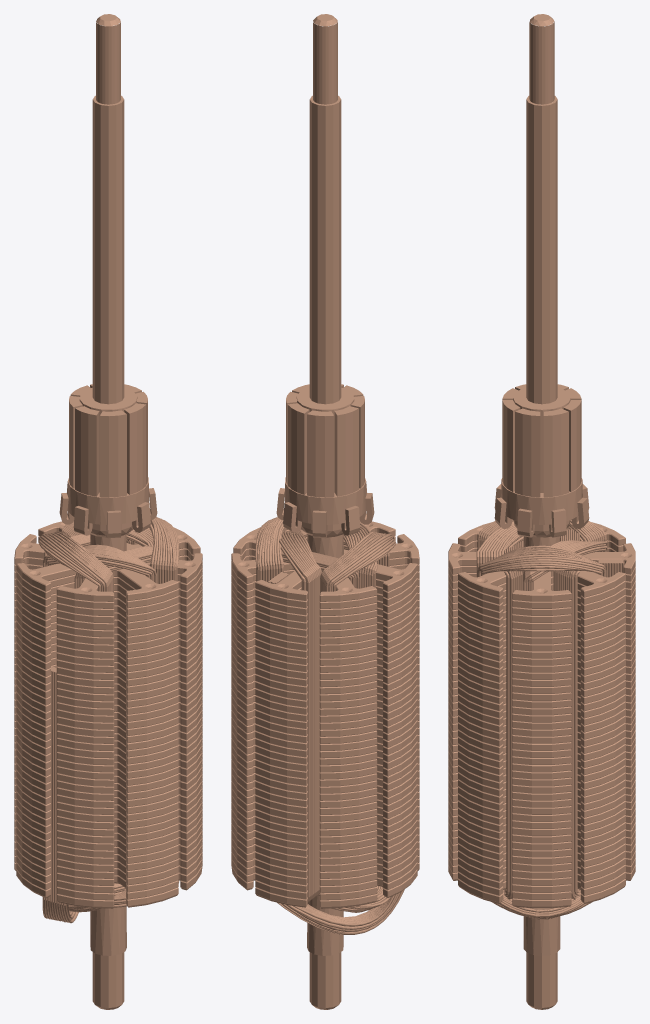
File: Anker_Lang.glb
The picture shows the model from 3 angles, left to right: view 1: azimuth 30°, elevation 25°; view 2: azimuth 150°, elevation 25°; view 3: azimuth 270°, elevation 25°; orthographic projection.
Parts seen in each view (by area): view 1: Anker_Lang; view 2: Anker_Lang; view 3: Anker_Lang.
Boxes of the visible parts, left/top/right/bottom form: Anker_Lang: left=14, top=14, right=202, bottom=1009; Anker_Lang: left=231, top=14, right=419, bottom=1009; Anker_Lang: left=448, top=14, right=635, bottom=1009.
Size of the model in its own units: 0.0239 by 0.139 by 0.0239.
